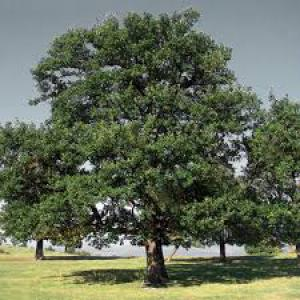Tree: (31, 5, 240, 283), (2, 115, 94, 261)
